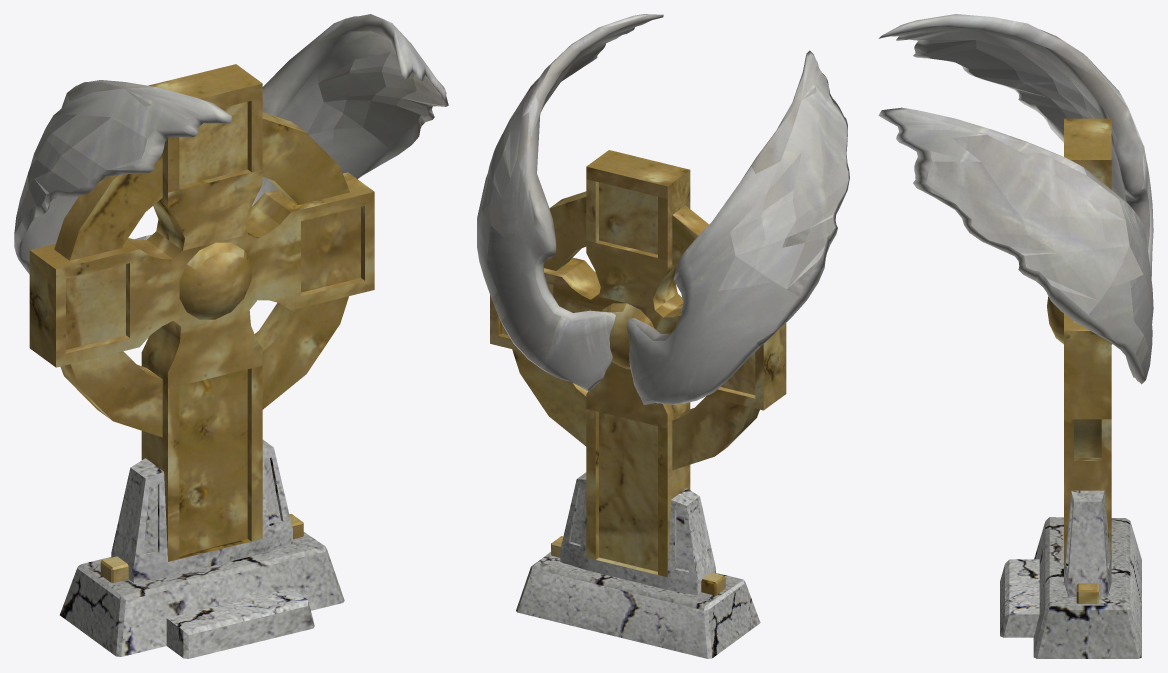
Rendered from checkpoint_hell.FBX.
3 views of the same model, side by side, from view 1: azimuth 30°, elevation 25°; view 2: azimuth 150°, elevation 25°; view 3: azimuth 270°, elevation 25° (orthographic). The views are drawn at different scales.
Parts seen in each view (by area): view 1: Line002; view 2: Line002; view 3: Line002.
Part boxes in pixels (x1=…): Line002: x1=14, y1=14, x2=448, y2=658; Line002: x1=477, y1=14, x2=849, y2=658; Line002: x1=878, y1=14, x2=1153, y2=658.
Size of the model in its own units: 12.55 by 18.49 by 8.48.
Materials: 1 (1 with a texture image).
